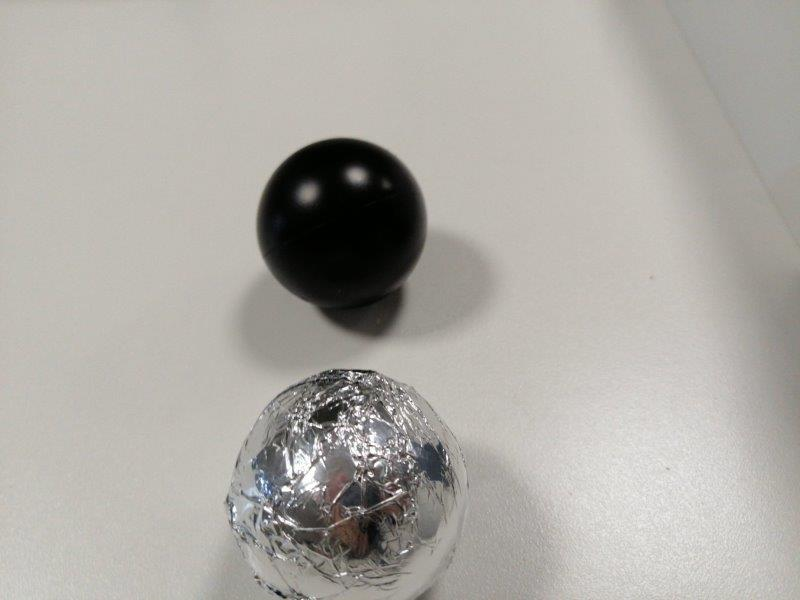bianca: (230, 369, 466, 597)
nera: (256, 138, 427, 305)
